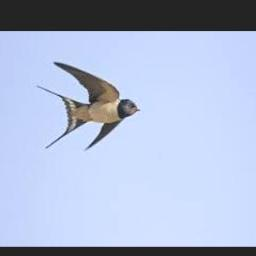Swallow: (35, 61, 140, 150)
